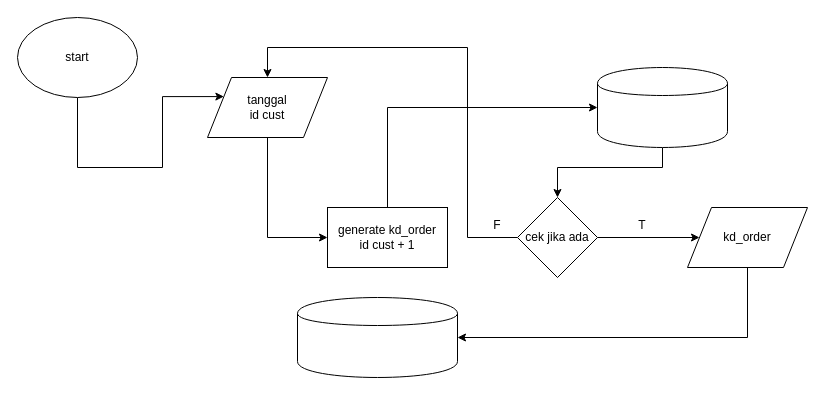
The diagram is 825 pixels wide and 395 high, and some of its shapes have lost their labels. Each missing label, with the centre of its shape:
insert data transaksi: the point at 377,337
select kd_order: the point at 662,107
